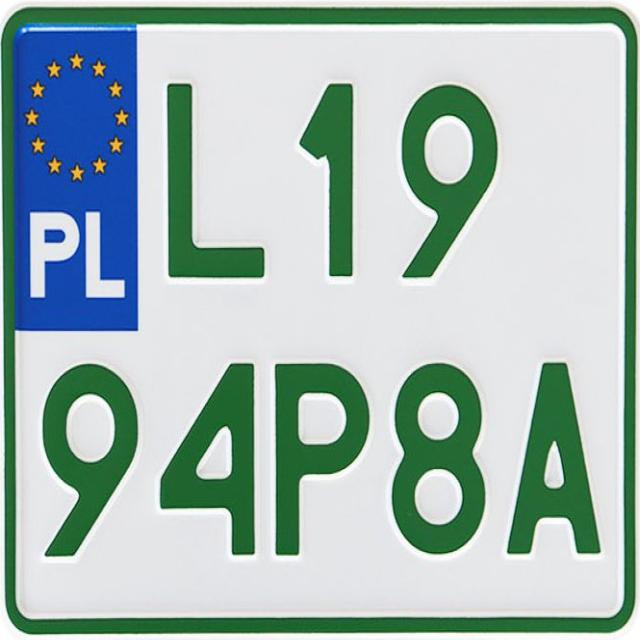pl_license_plate: (1, 5, 639, 631)
